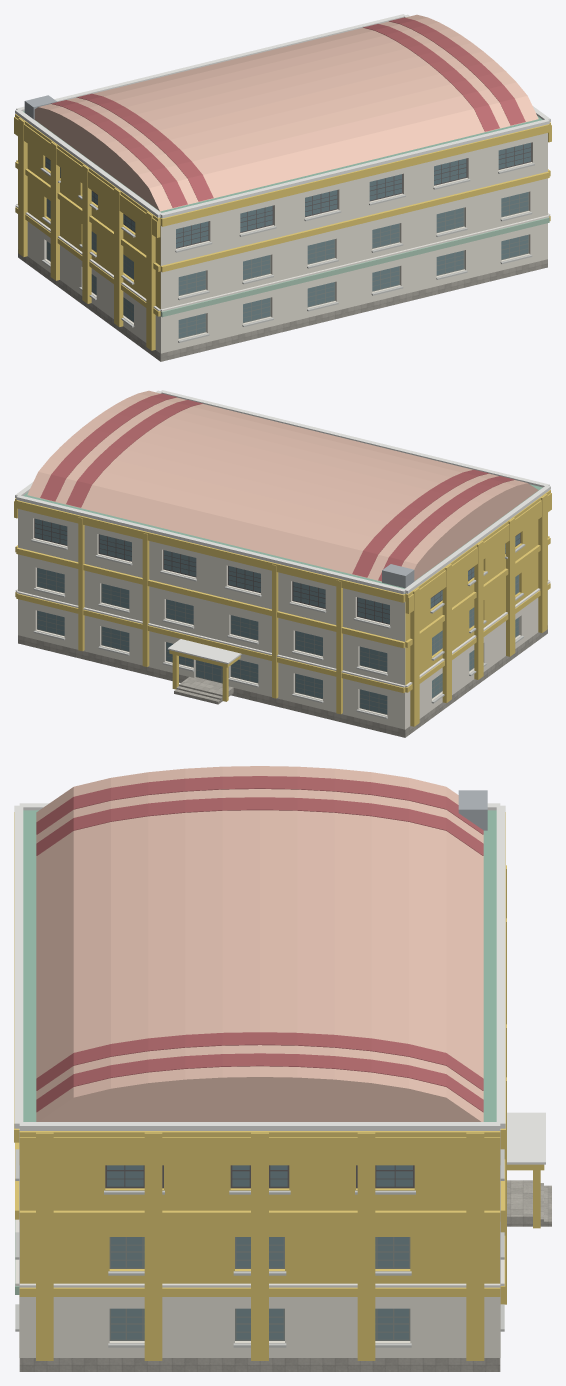
3 renders of one model, top to bottom at view 1: azimuth 30°, elevation 25°; view 2: azimuth 150°, elevation 25°; view 3: azimuth 270°, elevation 25°, orthographic. The views are drawn at different scales.
Visible parts, largest first — view 1: gym-hall__salmon, gym-hall__panel, gym-hall__ochre, gym-hall__terracotta, gym-hall__sideglass, gym-hall__cap, gym-hall__stone, gym-hall__clerestoryglass, gym-hall__frame, gym-hall__mint, gym-hall__sill, gym-hall__band (+2 smaller); view 2: gym-hall__salmon, gym-hall__panel, gym-hall__ochre, gym-hall__terracotta, gym-hall__cap, gym-hall__glass, gym-hall__stone, gym-hall__clerestoryglass, gym-hall__frame, gym-hall__sill, gym-hall__darkframe, gym-hall__band (+4 smaller); view 3: gym-hall__salmon, gym-hall__ochre, gym-hall__terracotta, gym-hall__panel, gym-hall__cap, gym-hall__roof, gym-hall__stone, gym-hall__sideglass, gym-hall__sill, gym-hall__frame, gym-hall__clerestoryglass, gym-hall__band (+4 smaller).
Boxes of the visible parts, bbox=[...] form: gym-hall__salmon: bbox=[34, 14, 538, 211]; gym-hall__panel: bbox=[18, 133, 547, 353]; gym-hall__ochre: bbox=[14, 114, 551, 350]; gym-hall__terracotta: bbox=[51, 17, 525, 207]; gym-hall__sideglass: bbox=[47, 192, 528, 337]; gym-hall__cap: bbox=[15, 14, 550, 218]; gym-hall__stone: bbox=[18, 249, 547, 361]; gym-hall__clerestoryglass: bbox=[46, 142, 530, 247]; gym-hall__frame: bbox=[46, 192, 528, 338]; gym-hall__mint: bbox=[160, 217, 549, 317]; gym-hall__sill: bbox=[40, 163, 534, 342]; gym-hall__band: bbox=[15, 203, 550, 311]; gym-hall__salmon: bbox=[27, 390, 538, 581]; gym-hall__panel: bbox=[18, 509, 547, 729]; gym-hall__ochre: bbox=[14, 490, 551, 726]; gym-hall__terracotta: bbox=[40, 393, 514, 581]; gym-hall__cap: bbox=[15, 390, 550, 664]; gym-hall__glass: bbox=[37, 568, 387, 713]; gym-hall__stone: bbox=[18, 625, 547, 737]; gym-hall__clerestoryglass: bbox=[35, 518, 519, 623]; gym-hall__frame: bbox=[37, 568, 519, 714]; gym-hall__sill: bbox=[31, 539, 525, 718]; gym-hall__darkframe: bbox=[34, 518, 520, 624]; gym-hall__band: bbox=[15, 579, 550, 687]; gym-hall__salmon: bbox=[36, 766, 483, 1121]; gym-hall__ochre: bbox=[14, 812, 544, 1360]; gym-hall__terracotta: bbox=[36, 776, 483, 1112]; gym-hall__panel: bbox=[19, 1129, 500, 1357]; gym-hall__cap: bbox=[14, 803, 545, 1164]; gym-hall__roof: bbox=[23, 810, 496, 1121]; gym-hall__stone: bbox=[19, 1358, 500, 1371]; gym-hall__sideglass: bbox=[111, 1237, 408, 1339]; gym-hall__sill: bbox=[15, 1149, 504, 1347]; gym-hall__frame: bbox=[109, 1237, 410, 1340]; gym-hall__clerestoryglass: bbox=[107, 1165, 412, 1186]; gym-hall__band: bbox=[15, 1219, 504, 1287].
Size of the model in its own units: 36.8 by 15.42 by 25.74.
Materials: 17 (1 with a texture image).
